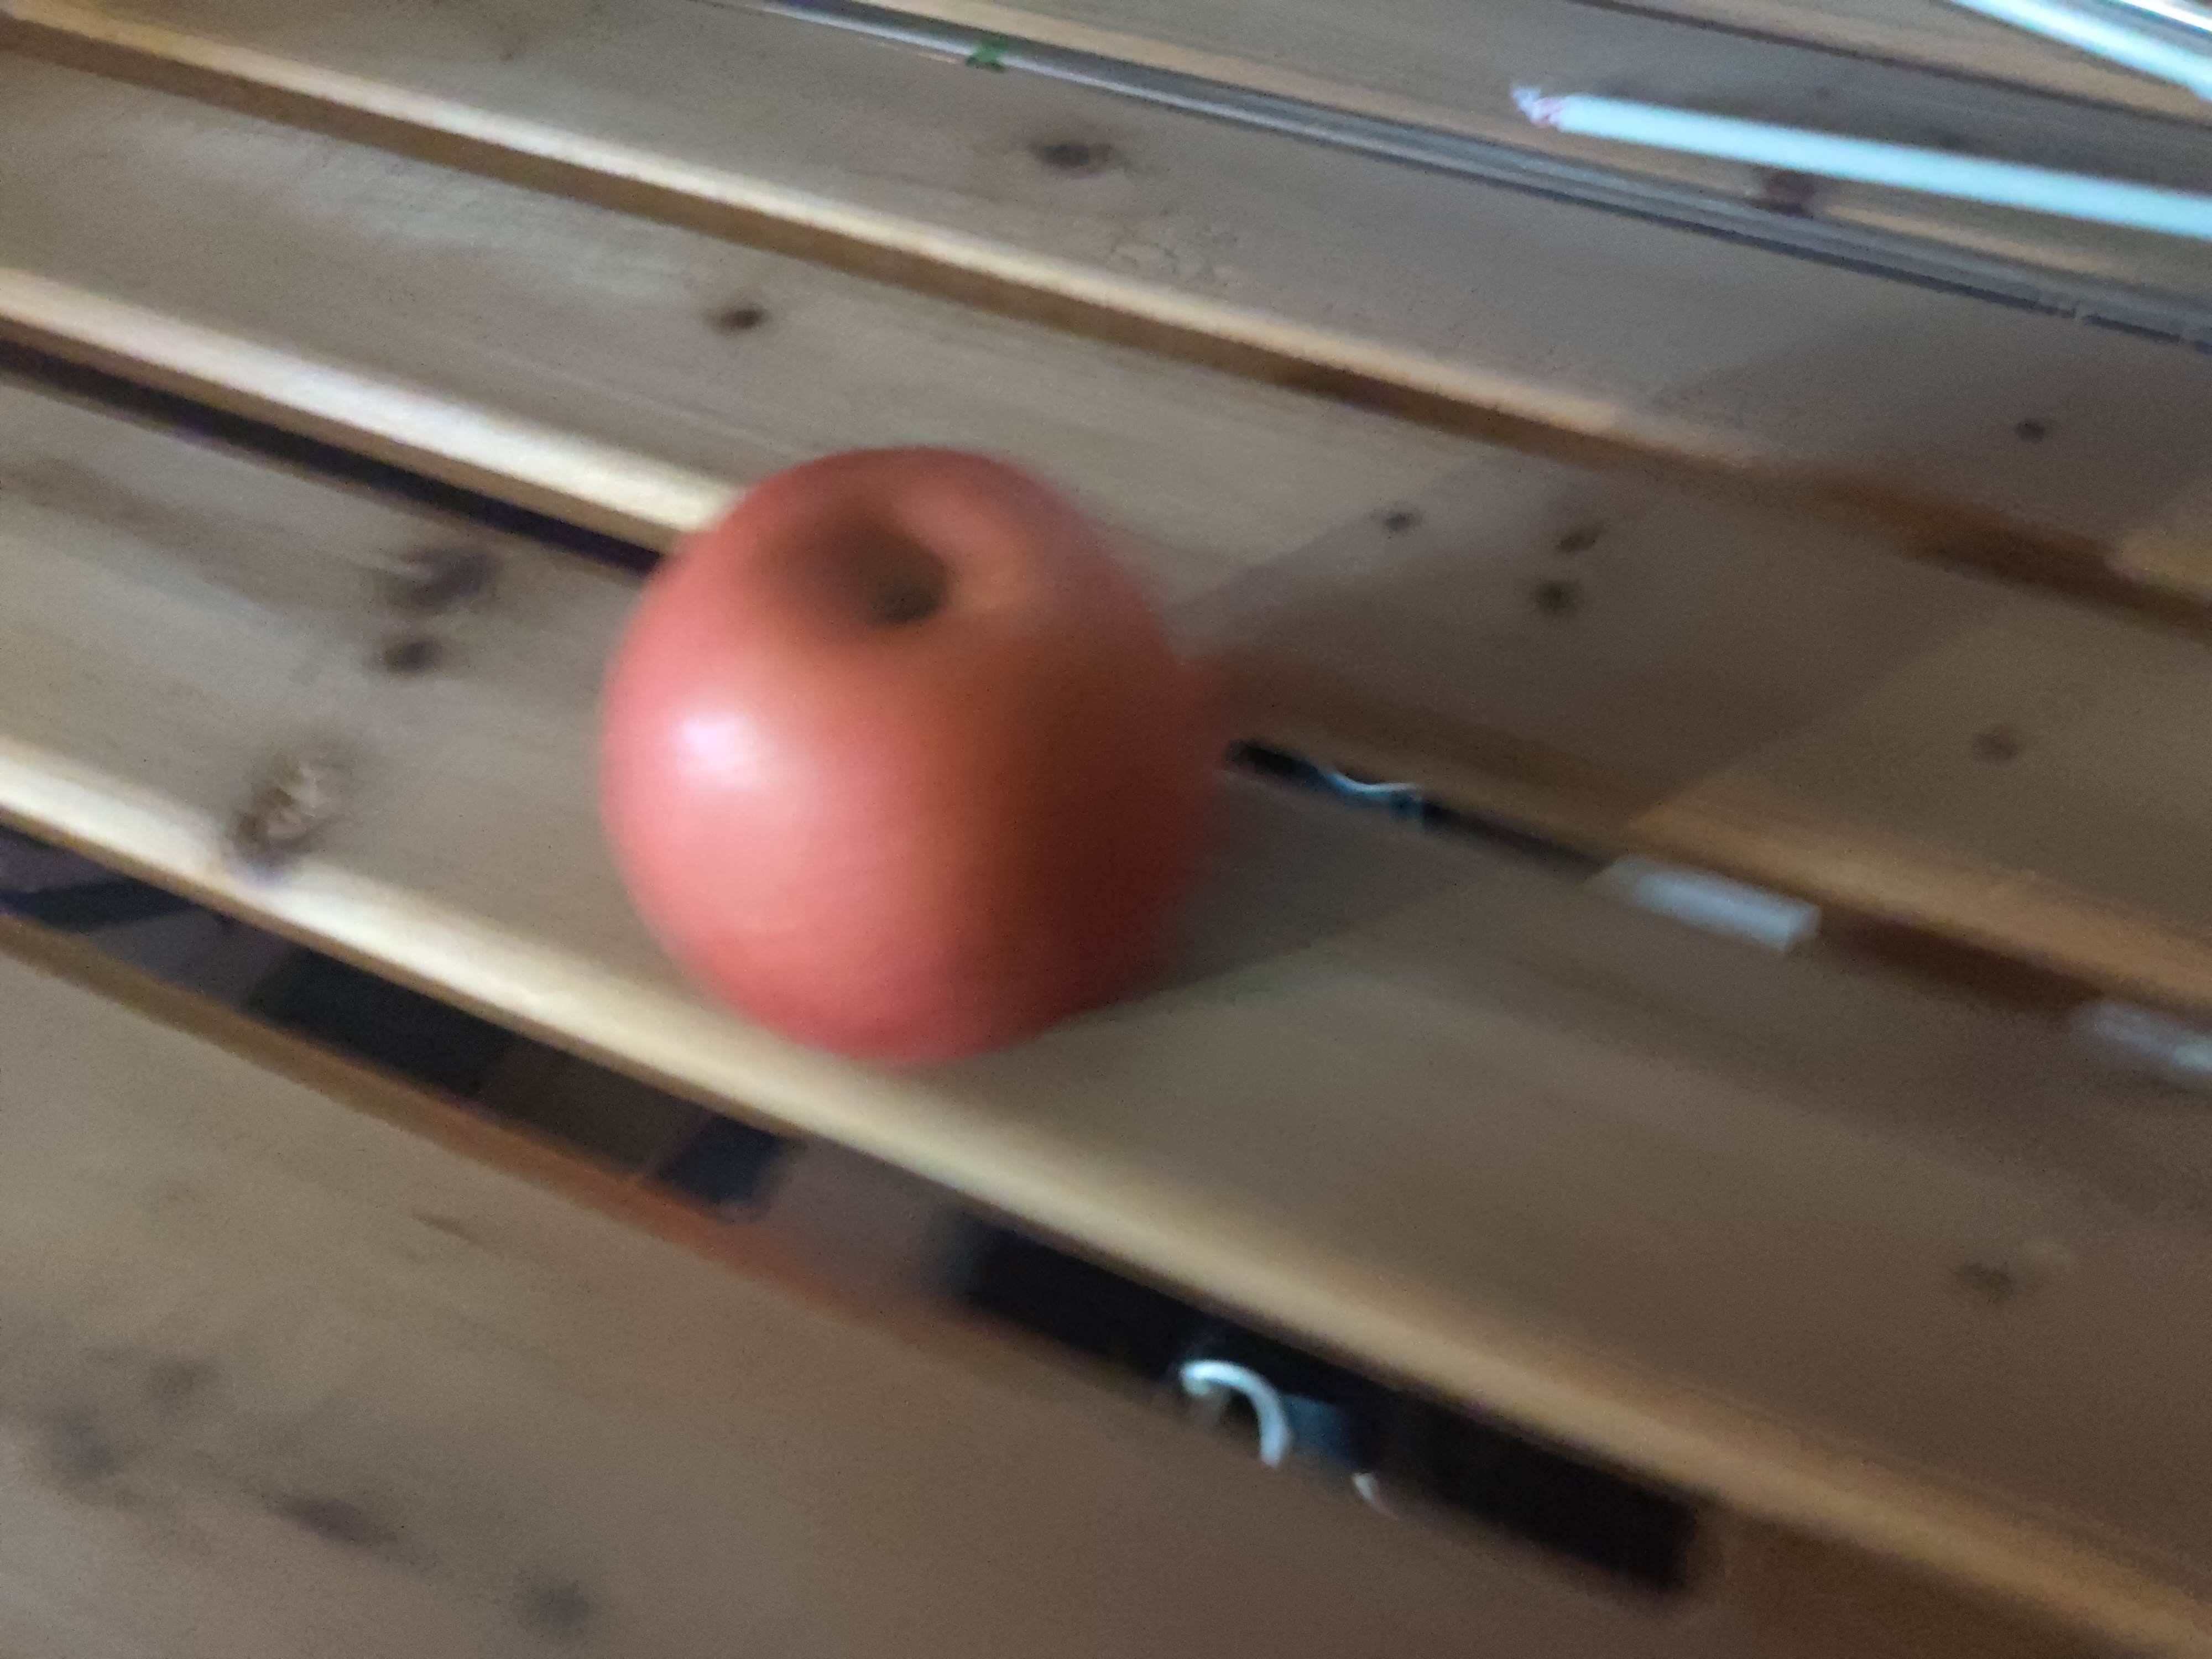apple: (597, 444, 1209, 1063)
